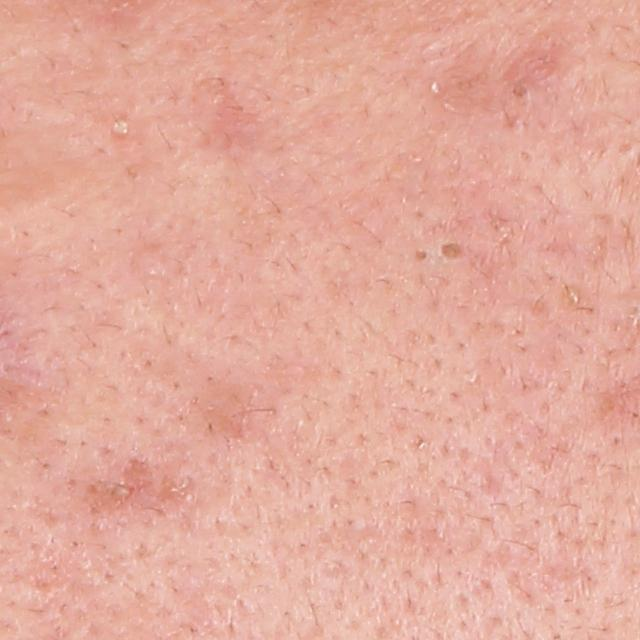comedo: (502, 77, 538, 111), (438, 241, 468, 264), (413, 245, 433, 267), (425, 79, 443, 98)
pustule: (105, 109, 139, 147)
